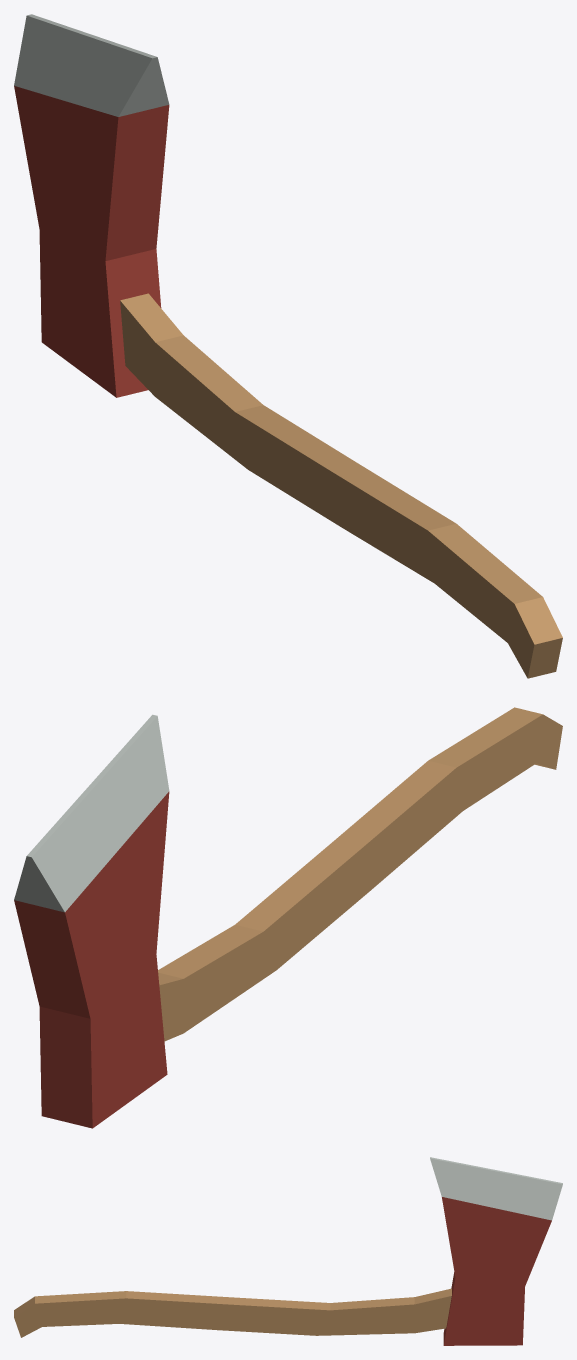
File: axe.glb
The picture shows the model from 3 angles, top to bottom: view 1: azimuth 30°, elevation 25°; view 2: azimuth 150°, elevation 25°; view 3: azimuth 270°, elevation 25°; orthographic projection. The views are drawn at different scales.
Visible parts, largest first — view 1: Curved_wood_handle_0, Painted_axe_head_3, Steel_cutting_edge_4; view 2: Painted_axe_head_3, Curved_wood_handle_0, Steel_cutting_edge_4; view 3: Curved_wood_handle_0, Painted_axe_head_3, Steel_cutting_edge_4.
Boxes of the visible parts, x1,y1,x2,y2 form: Curved_wood_handle_0: (120, 293, 562, 678); Painted_axe_head_3: (14, 86, 169, 397); Steel_cutting_edge_4: (14, 14, 169, 116); Painted_axe_head_3: (14, 791, 169, 1128); Curved_wood_handle_0: (158, 707, 562, 1041); Steel_cutting_edge_4: (14, 714, 169, 912); Curved_wood_handle_0: (14, 1288, 451, 1337); Painted_axe_head_3: (442, 1197, 551, 1345); Steel_cutting_edge_4: (430, 1157, 562, 1220).
Size of the model in its own units: 0.059 by 0.3841 by 1.04.
